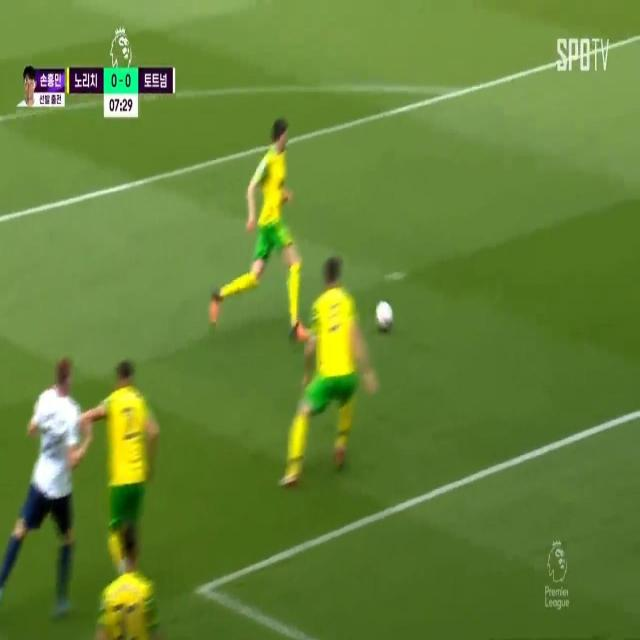ball: (375, 295, 399, 337)
player: (0, 348, 93, 612), (282, 260, 376, 496), (206, 105, 299, 323), (99, 351, 168, 555), (88, 522, 172, 640)
